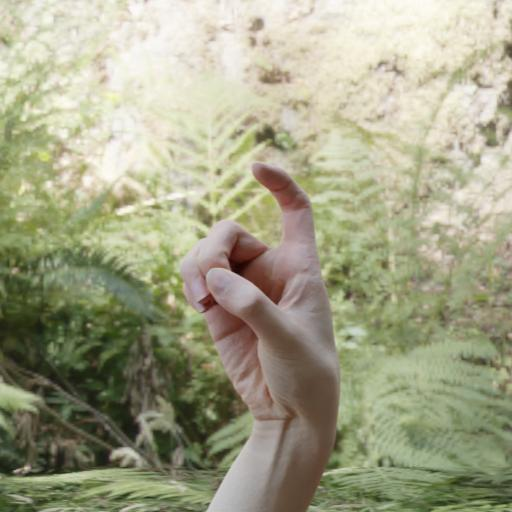X: (172, 152, 354, 444)
